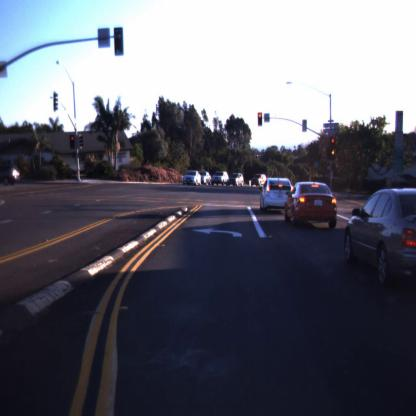trafficlight: (326, 133, 336, 161), (69, 134, 75, 150), (258, 112, 263, 126)
